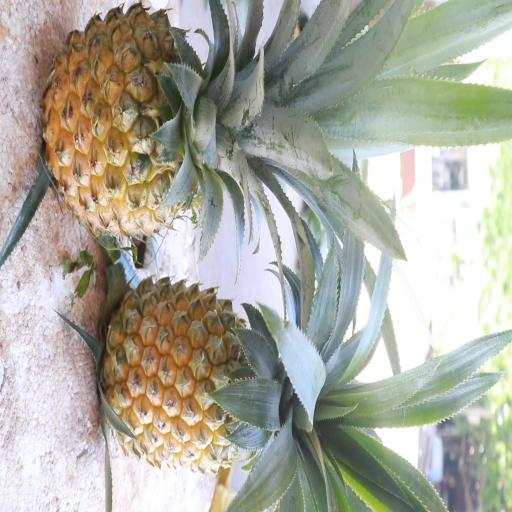Pineapple - v8 v1: (37, 0, 291, 247), (96, 271, 338, 482)
